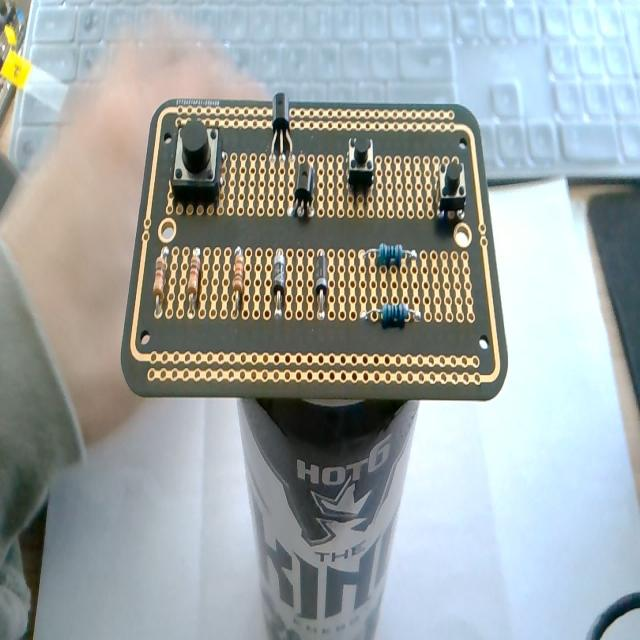diode: (314, 248, 328, 321), (272, 249, 286, 319)
resistor: (360, 243, 417, 270), (362, 303, 422, 328), (153, 247, 169, 316), (187, 246, 202, 314), (231, 247, 245, 316)
switch: (171, 118, 223, 205), (437, 157, 467, 221), (347, 136, 375, 194)
transistor: (270, 92, 292, 159), (290, 161, 315, 219)
